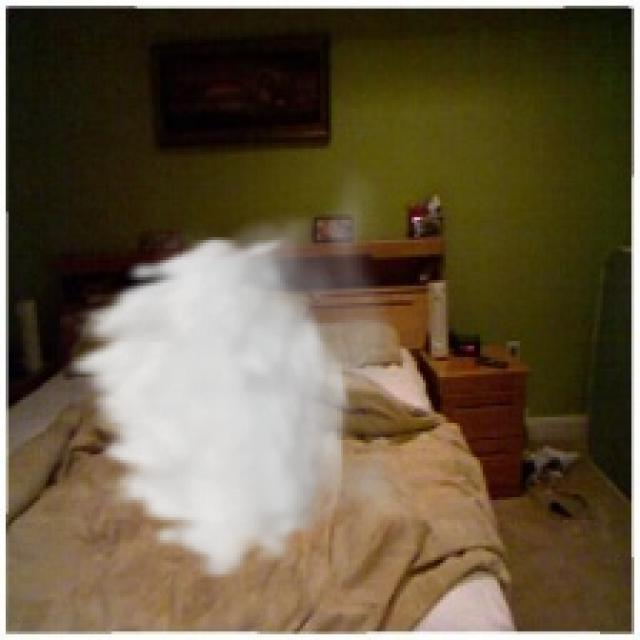Smoke: (60, 160, 420, 583)
